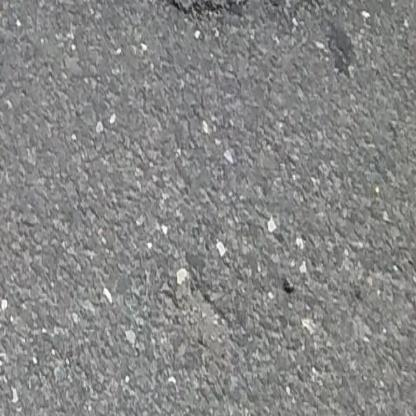Cracks: (135, 0, 314, 27)
